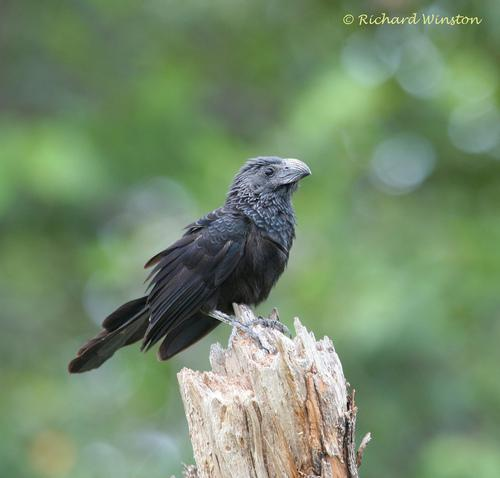004.Groove_billed_Ani: (70, 154, 313, 378)
